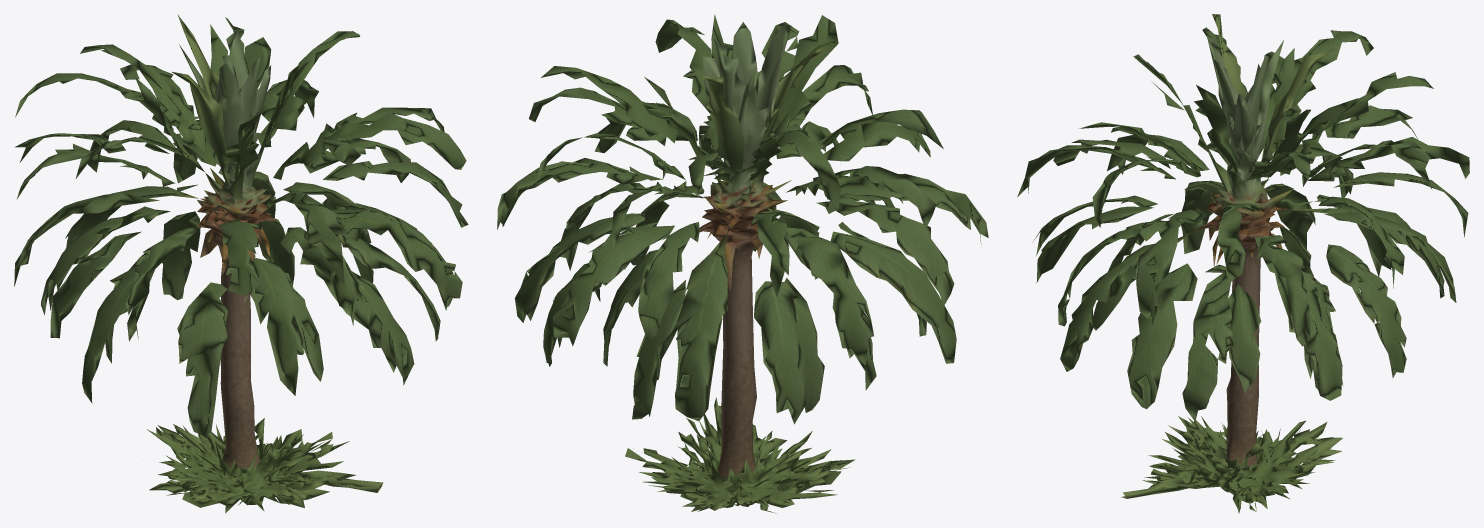
File: palm.glb
3 views of the same model, side by side, from view 1: azimuth 30°, elevation 25°; view 2: azimuth 150°, elevation 25°; view 3: azimuth 270°, elevation 25° (orthographic). The views are drawn at different scales.
Parts seen in each view (by area): view 1: geometry_0; view 2: geometry_0; view 3: geometry_0.
Boxes of the visible parts, left/top/right/bottom form: geometry_0: left=14, top=14, right=468, bottom=513; geometry_0: left=497, top=14, right=988, bottom=513; geometry_0: left=1017, top=14, right=1469, bottom=513.
Bounding box in the file's own units: 0.9067 × 0.9479 × 0.9047.
1 material, 1 textured.
